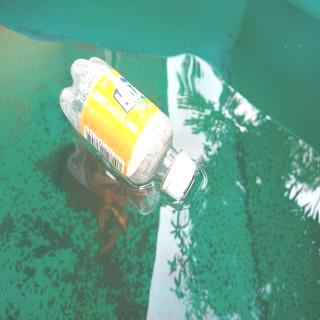bottle: (56, 53, 198, 202)
